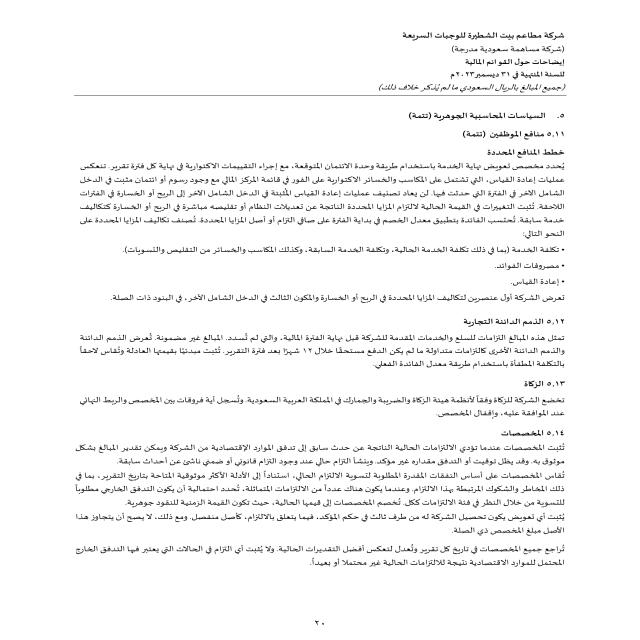notes: (456, 56, 566, 67)
text: (46, 109, 567, 581)
